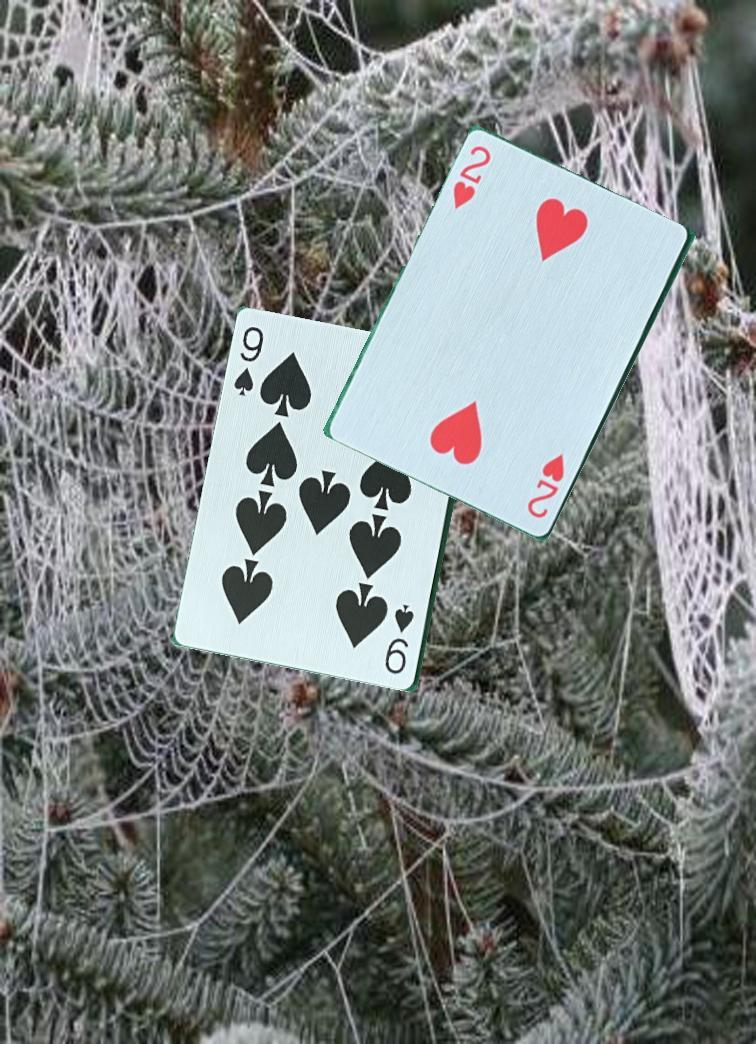2h: (449, 142, 495, 218), (522, 450, 568, 522)
9s: (230, 323, 267, 400), (383, 601, 418, 678)
